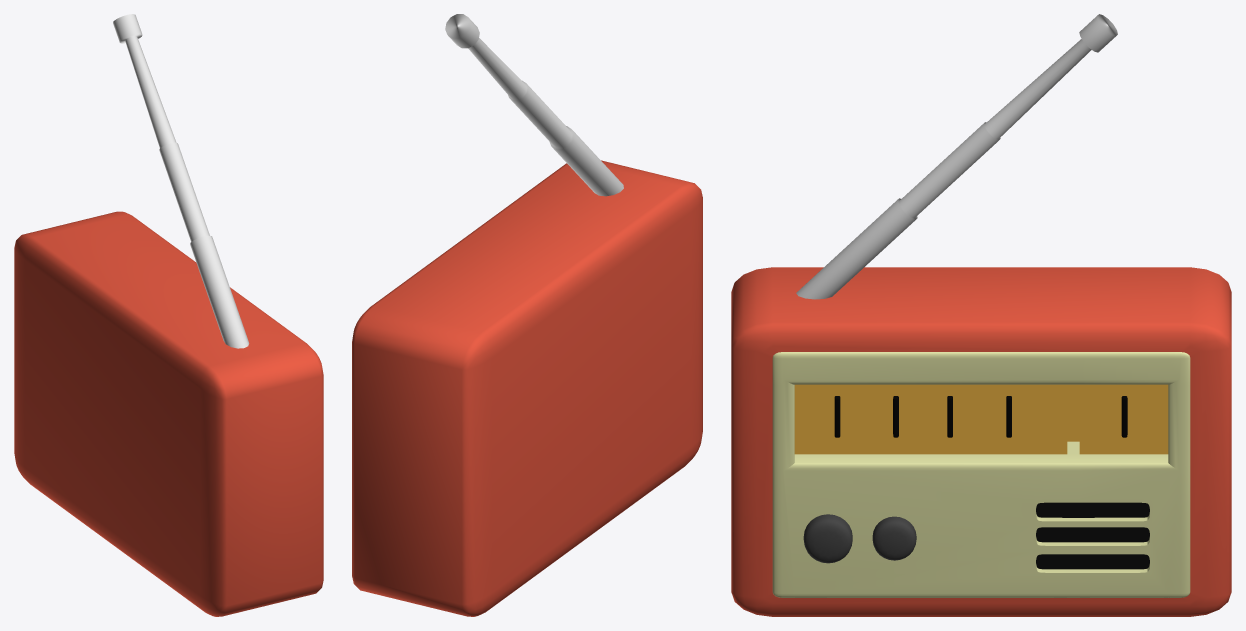
The model's file is radio.fbx.
The picture shows the model from 3 angles, left to right: view 1: azimuth 30°, elevation 25°; view 2: azimuth 150°, elevation 25°; view 3: azimuth 270°, elevation 25°; orthographic projection. The views are drawn at different scales.
Parts seen in each view (by area): view 1: Cube.009, Cylinder.003; view 2: Cube.009, Cylinder.003; view 3: Cube.009, Cylinder.003, potensiometer.001, Plane.004.
Boxes of the visible parts, x1,y1,x2,y2 form: Cube.009: (14, 211, 323, 616); Cylinder.003: (113, 14, 249, 348); Cube.009: (352, 160, 702, 616); Cylinder.003: (445, 14, 623, 196); Cube.009: (731, 267, 1231, 616); Cylinder.003: (796, 14, 1117, 299); potensiometer.001: (803, 514, 916, 563); Plane.004: (834, 396, 1127, 437).
Size of the model in its own units: 81.53 by 293 by 230.
